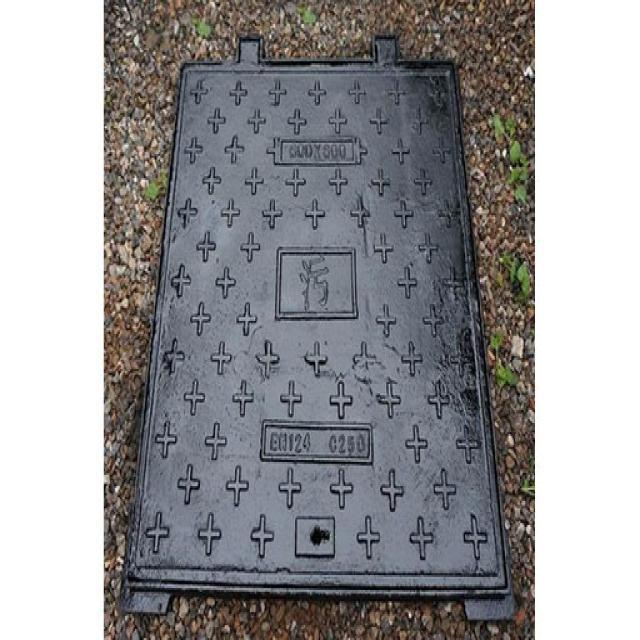manhole: (121, 36, 515, 620)
